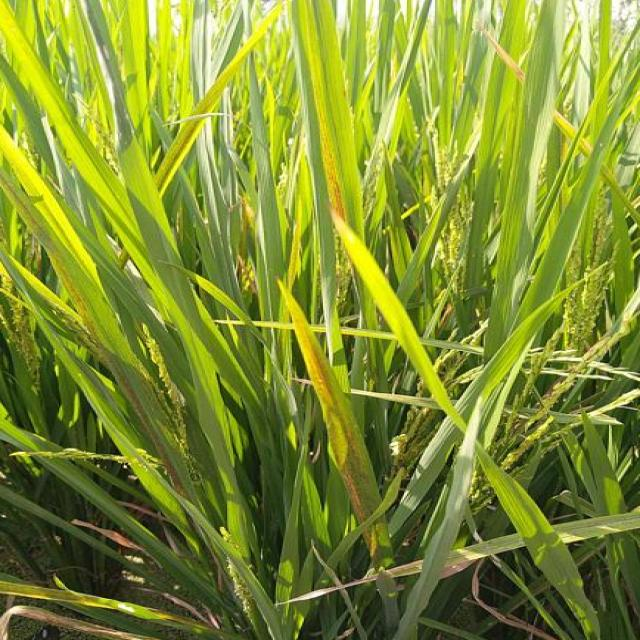Leaf Streak: (277, 279, 382, 526), (109, 355, 189, 500), (319, 116, 347, 226), (360, 518, 394, 576)
